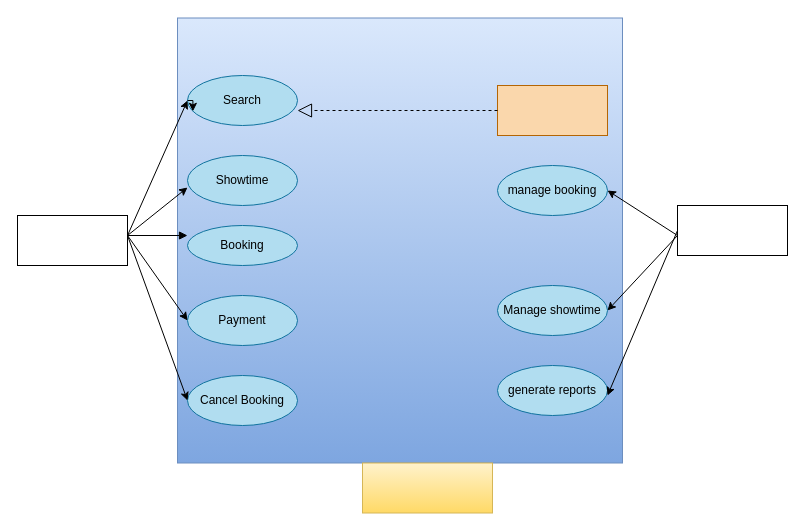
The diagram is 805 pixels wide and 530 high, and some of its shapes have lost their labels. The shapes that lost their labels are listed below. From the top down, each one's centre as x and y in pixels, then its label:
point (552, 110): filter based on language
point (72, 240): Customer (Actor)
point (732, 230): Admin
point (427, 487): BookMyShow
